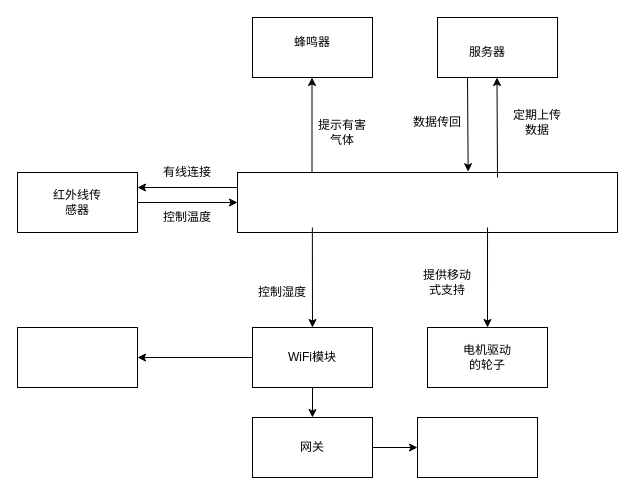
Image size: 635x495. Some labels were removed from this diagram. The shapes that lost their labels are listed below. From the top down, each one's centre as x and y in pixels, then its label:
pixel 427 202: 环境质量检测仪
pixel 77 357: 加湿器
pixel 477 447: 手机APP
